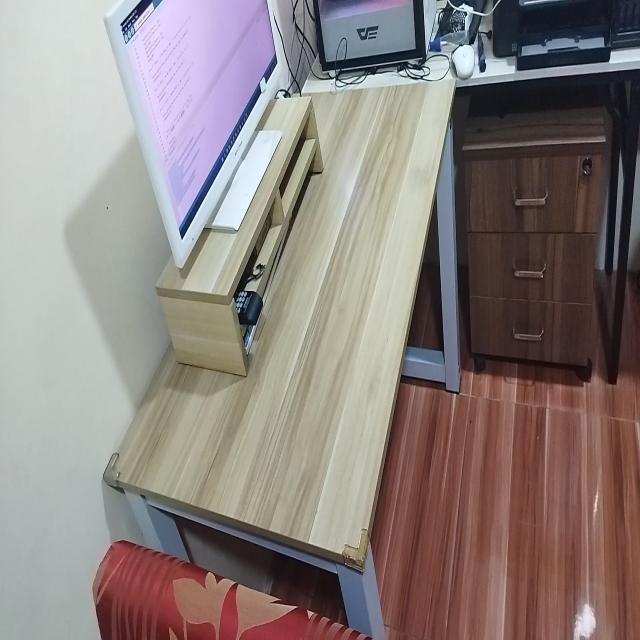table: (118, 76, 460, 640)
